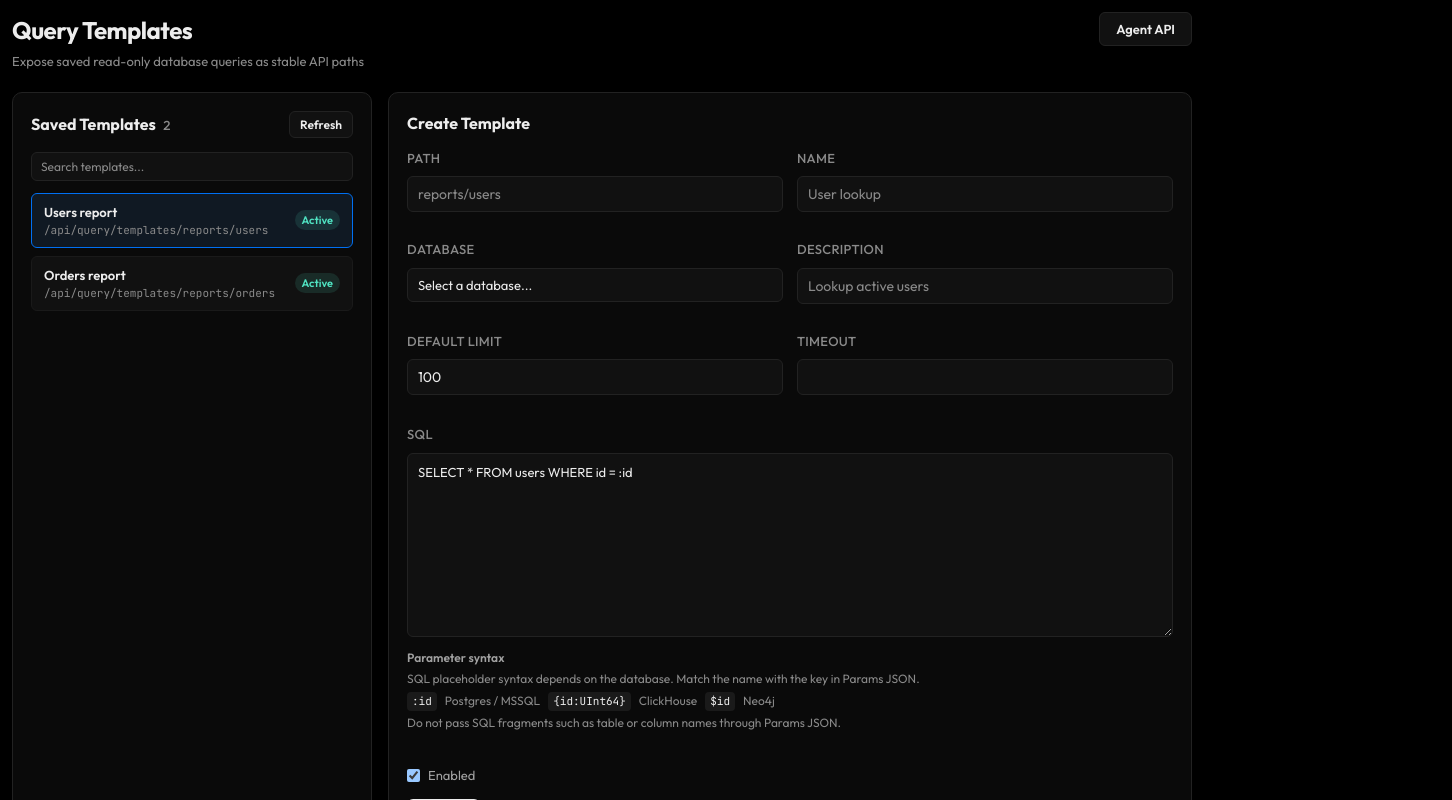
Test: QueryTemplates › filters saved templates by search text
Type "orders" into the search field labelled "Search templates..." at (192, 166), box top-left (31, 152), bottom-right (353, 180)
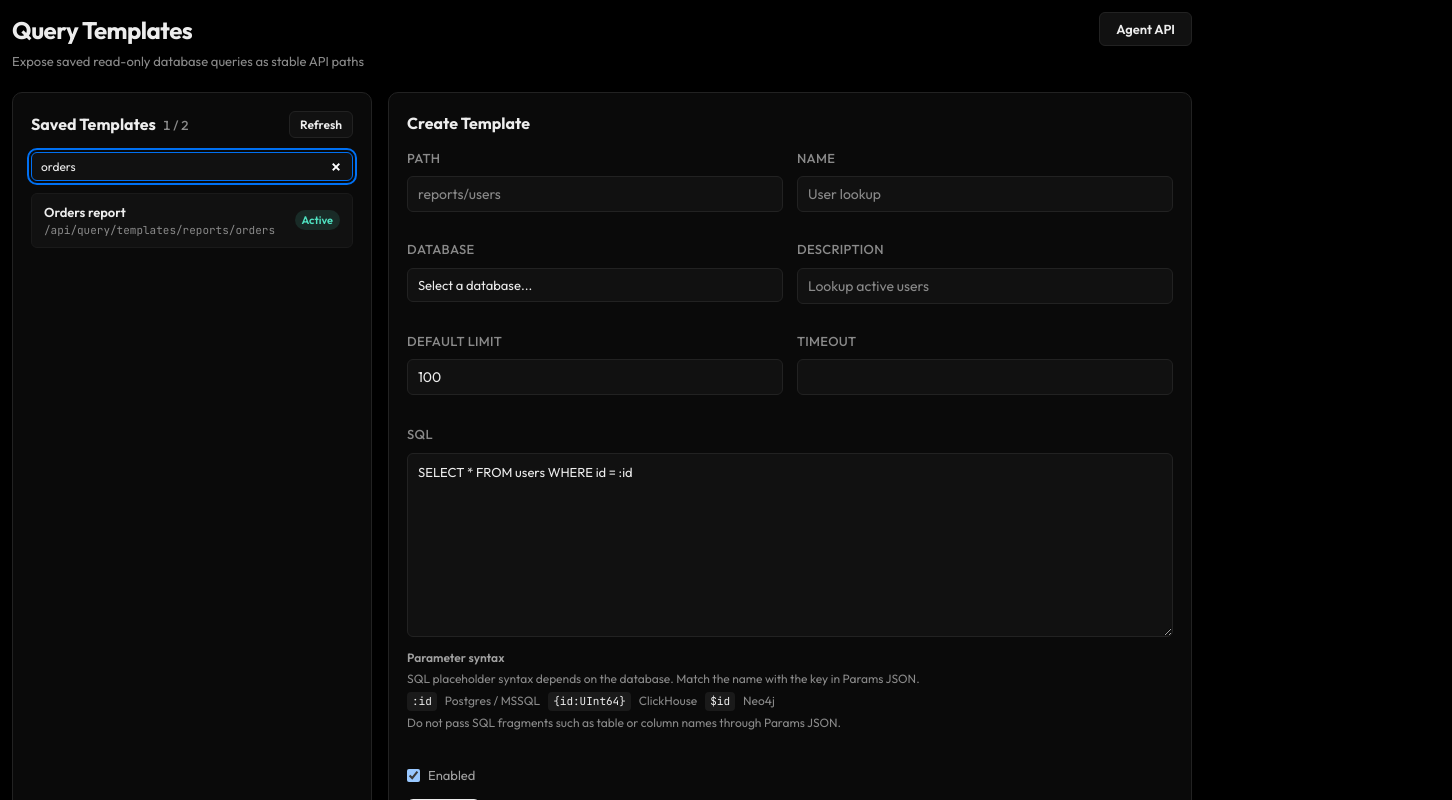
Expected: the text "Users report" is not shown
Expected: the text "Orders report" is shown, top-left (44, 204), bottom-right (126, 220)
Replace the text in the search field named "Search templates..." with "missing" at (192, 166), box top-left (31, 152), bottom-right (353, 180)
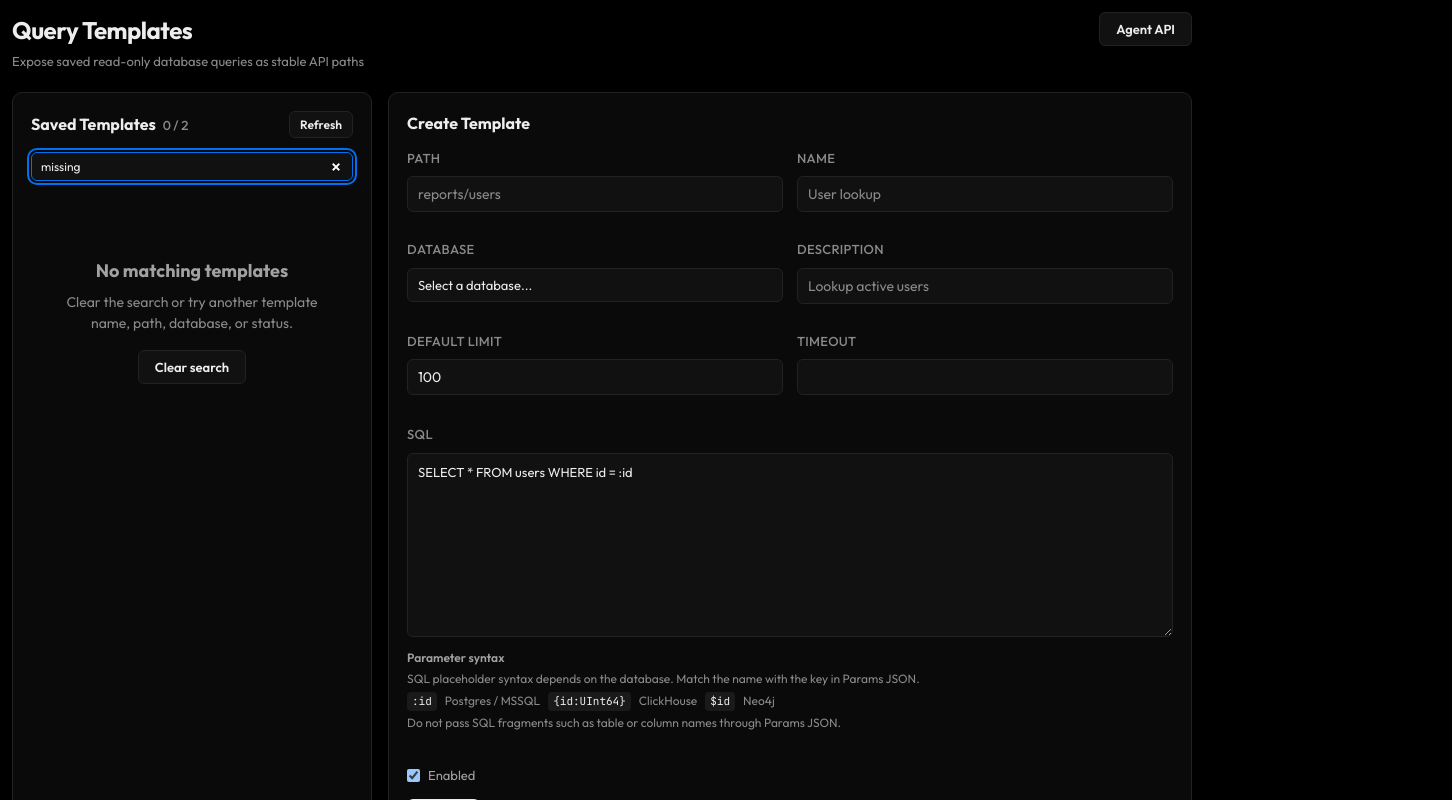
Result: the heading "No matching templates" is shown at top-left (96, 258), bottom-right (288, 282)
Click the button "Clear search" at (192, 366), box top-left (138, 350), bottom-right (246, 384)
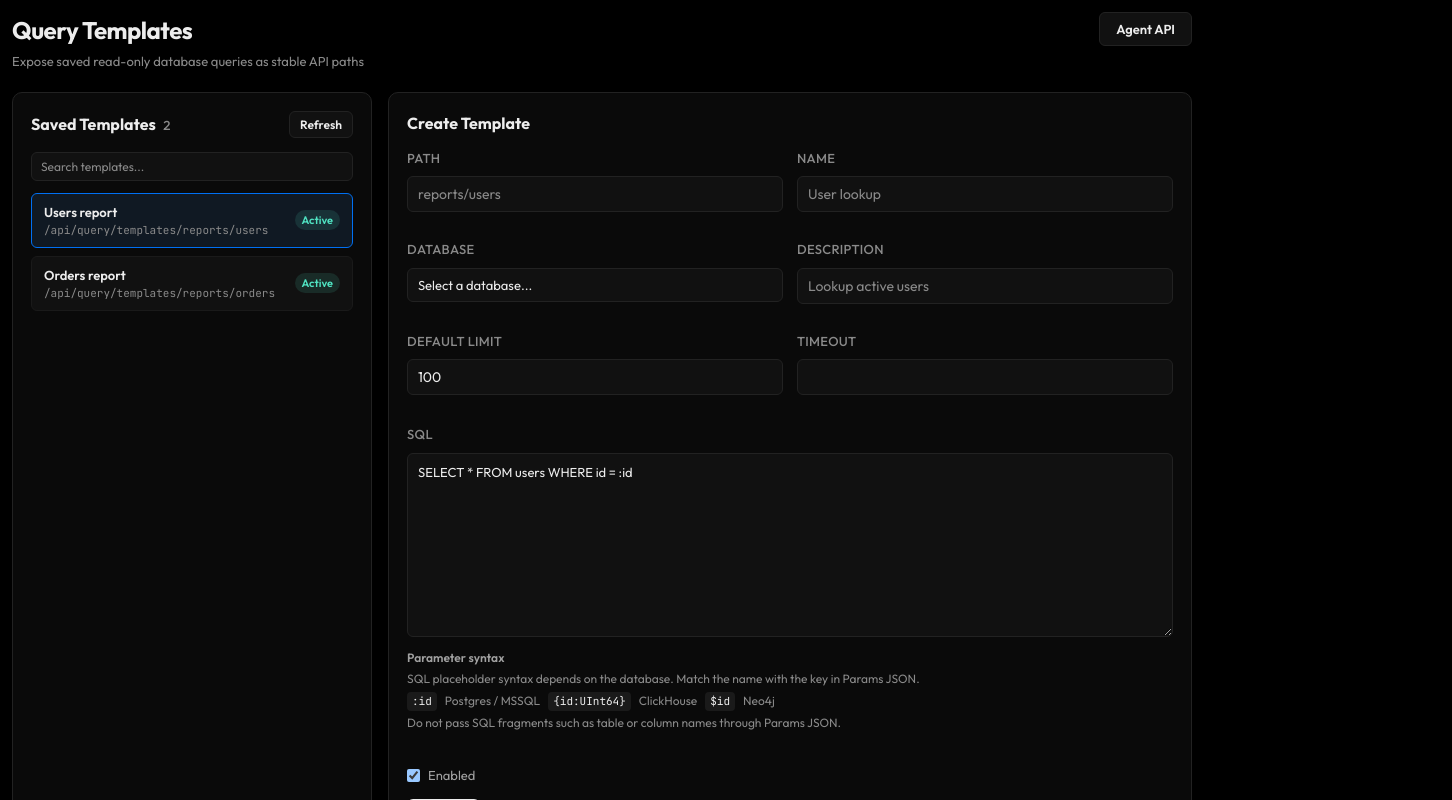
Result: the text "Users report" is shown at top-left (44, 204), bottom-right (117, 220)
Result: the text "Orders report" is shown at top-left (44, 266), bottom-right (126, 282)
